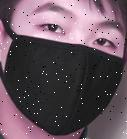with_mask: (1, 1, 127, 139)
